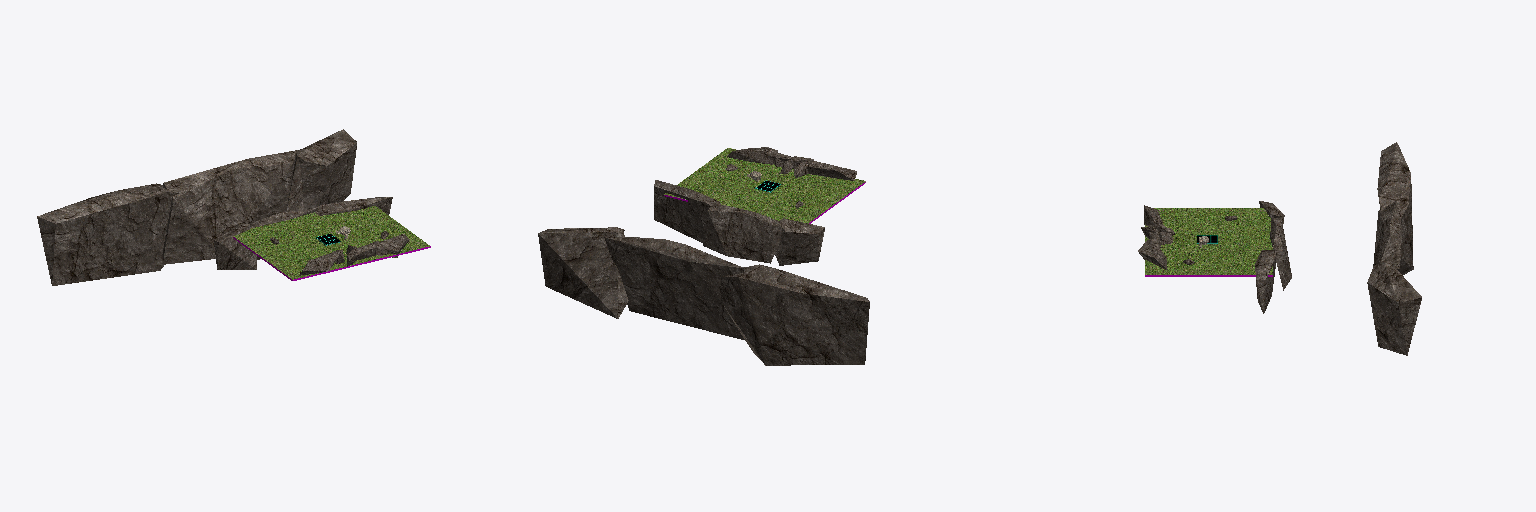
The picture shows the model from 3 angles: view 1: azimuth 30°, elevation 25°; view 2: azimuth 150°, elevation 25°; view 3: azimuth 270°, elevation 25°; orthographic projection.
Parts seen in each view (by area): view 1: Cube_Cube.001; view 2: Cube_Cube.001; view 3: Cube_Cube.001.
Part boxes in pixels (left/top/right/bottom): Cube_Cube.001: left=37, top=129, right=430, bottom=285; Cube_Cube.001: left=538, top=147, right=869, bottom=365; Cube_Cube.001: left=1138, top=142, right=1421, bottom=355.
Bounding box in the file's own units: 290 × 78.62 × 223.
5 materials, 4 textured.